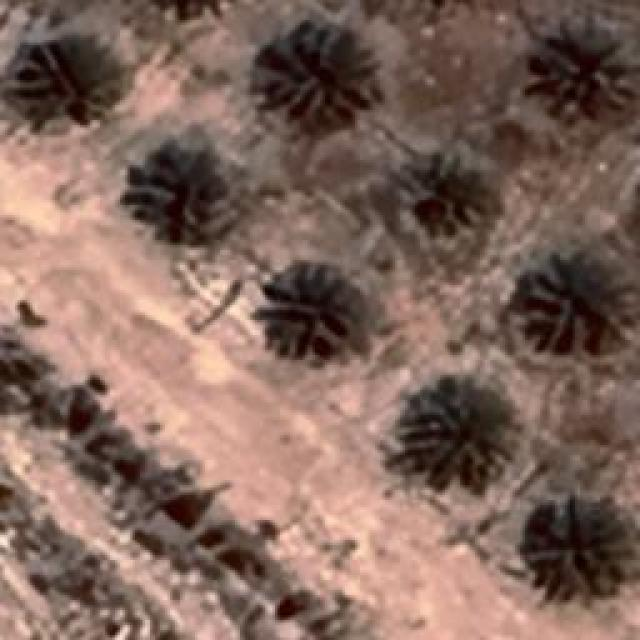PalmTree: (395, 375, 515, 495), (245, 19, 378, 122), (522, 498, 636, 602), (8, 30, 128, 128), (528, 255, 638, 350), (108, 73, 192, 195), (262, 260, 360, 360), (537, 20, 635, 115), (400, 150, 495, 240), (109, 9, 188, 73)
